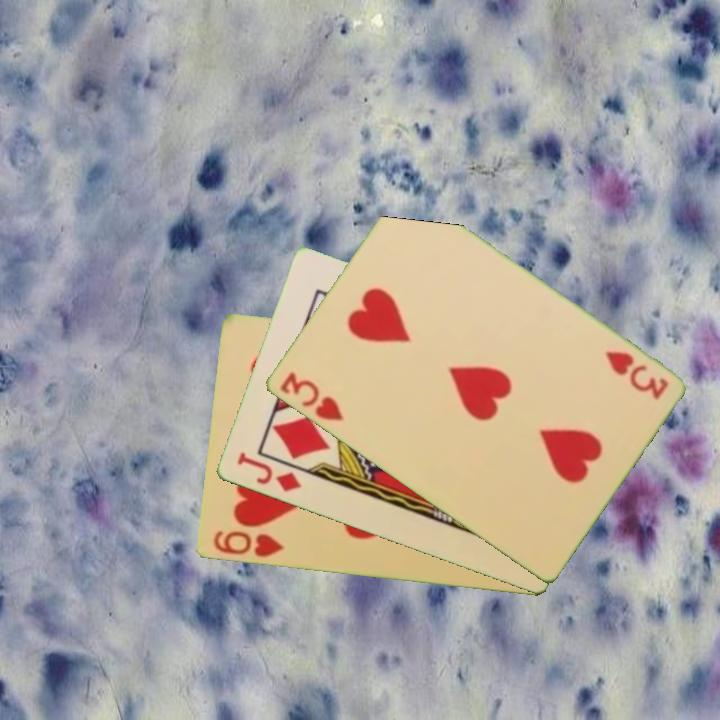3h: (275, 368, 347, 425), (601, 347, 671, 403)
6h: (209, 527, 287, 561)
Jd: (233, 449, 304, 496)
